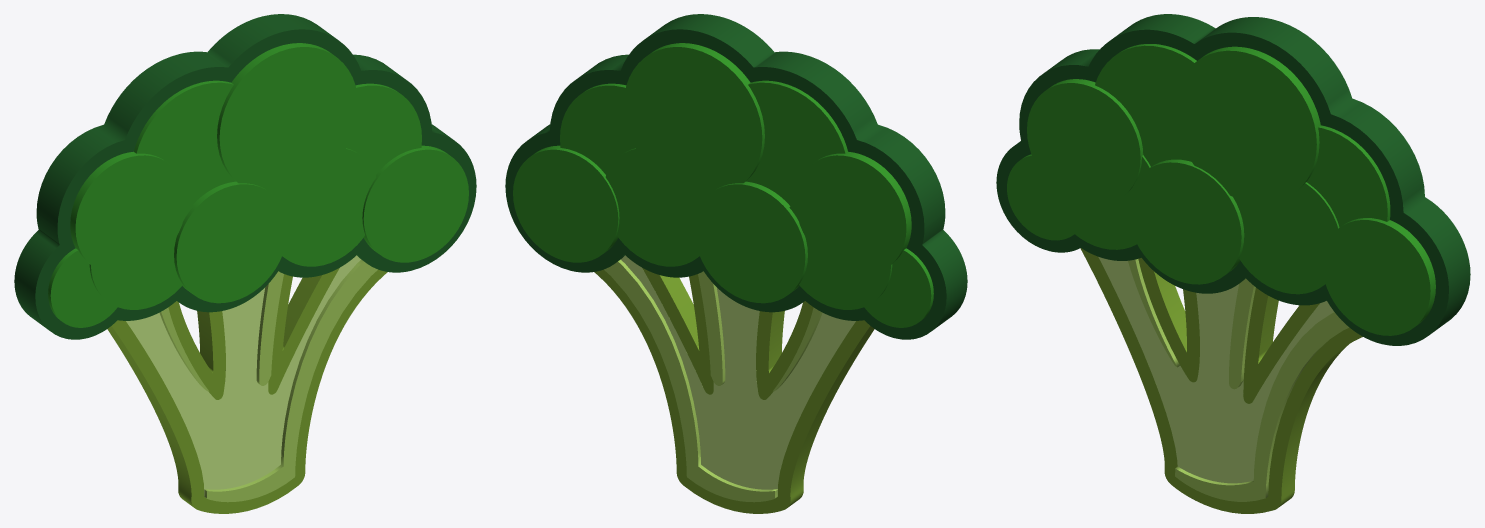
The model's file is vegetable.glb.
3 views of the same model, side by side, from view 1: azimuth 30°, elevation 25°; view 2: azimuth 150°, elevation 25°; view 3: azimuth 330°, elevation 25° (orthographic). The views are drawn at different scales.
Parts seen in each view (by area): view 1: Curve.013, Curve.010, Curve, Curve.001, Curve.005, Curve.006, Curve.008, Curve.002, Curve.007, Curve.011, Curve.009, Curve.012 (+1 smaller); view 2: Curve.013, Curve.010, Curve, Curve.001, Curve.005, Curve.006, Curve.008, Curve.002, Curve.007, Curve.011, Curve.009, Curve.012 (+1 smaller); view 3: Curve.013, Curve.010, Curve.001, Curve, Curve.005, Curve.006, Curve.008, Curve.002, Curve.007, Curve.011, Curve.009, Curve.012 (+1 smaller).
Boxes of the visible parts, x1,y1,x2,y2 form: Curve.013: (14,14,476,339); Curve.010: (217,43,358,195); Curve: (126,255,360,495); Curve.001: (107,268,387,513); Curve.005: (70,151,186,274); Curve.006: (174,181,287,303); Curve.008: (362,145,468,262); Curve.002: (159,259,377,502); Curve.007: (274,148,376,266); Curve.011: (134,80,235,205); Curve.009: (346,83,421,174); Curve.012: (89,201,192,309); Curve.013: (505,14,967,339); Curve.010: (623,43,764,195); Curve: (621,255,855,495); Curve.001: (594,268,874,513); Curve.005: (795,151,911,274); Curve.006: (694,181,807,303); Curve.008: (513,145,619,262); Curve.002: (604,259,822,502); Curve.007: (605,148,707,266); Curve.011: (746,80,847,205); Curve.009: (560,83,635,174); Curve.012: (789,201,892,309); Curve.013: (996,14,1470,345); Curve.010: (1174,46,1320,203); Curve.001: (1080,248,1362,513); Curve: (1098,257,1333,483); Curve.005: (1027,79,1143,204); Curve.006: (1128,159,1244,284); Curve.008: (1322,218,1435,335); Curve.002: (1128,259,1349,501); Curve.007: (1233,182,1339,294); Curve.011: (1095,44,1196,166); Curve.009: (1306,125,1390,227); Curve.012: (1045,155,1150,249).
Size of the model in its own units: 2.6 by 2.67 by 0.3474.
